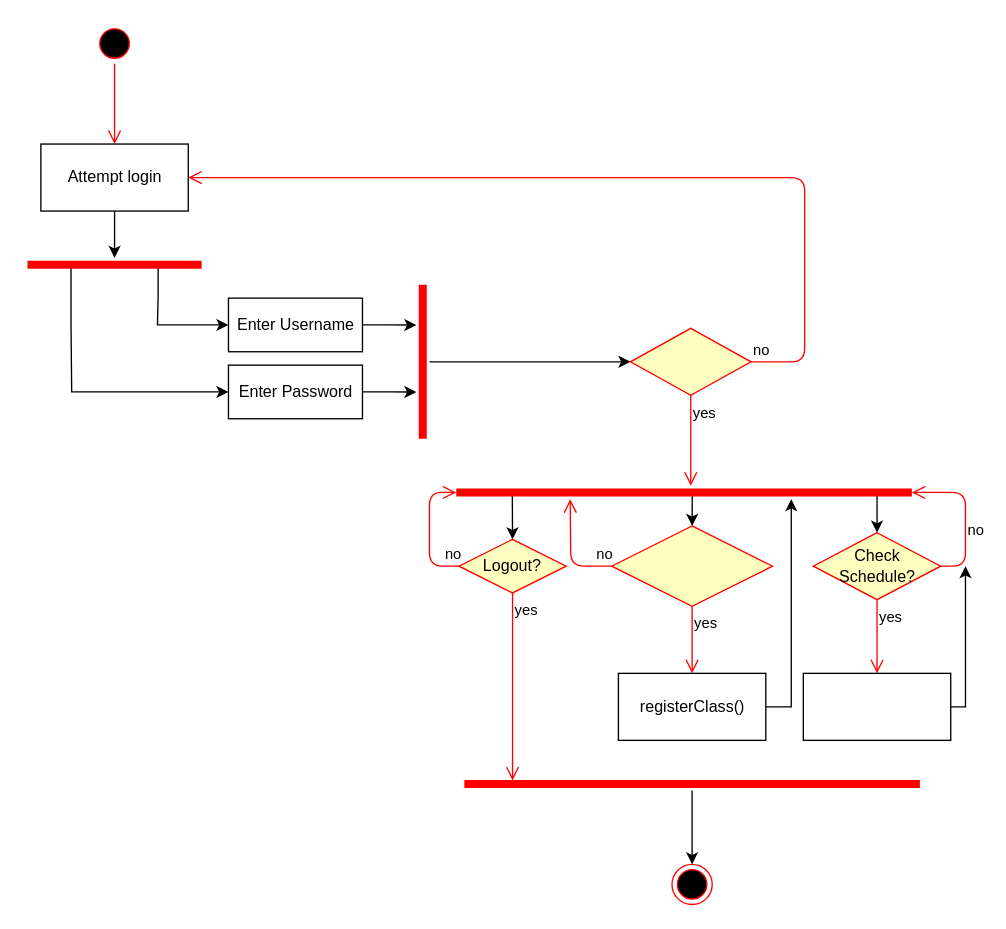
This 1006x929 diagram has some shape labels left out. Here are the shapes that lost their labels. From the top down, the centre of each, then its label:
At point (690, 361): "Login Success?".
At point (691, 565): "Register class?".
At point (876, 706): "checkSchedule()".
